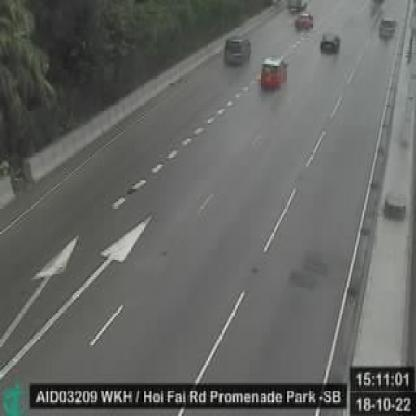Car: (260, 54, 288, 94), (224, 32, 253, 70), (319, 32, 342, 58), (377, 15, 398, 42), (295, 11, 315, 31)
